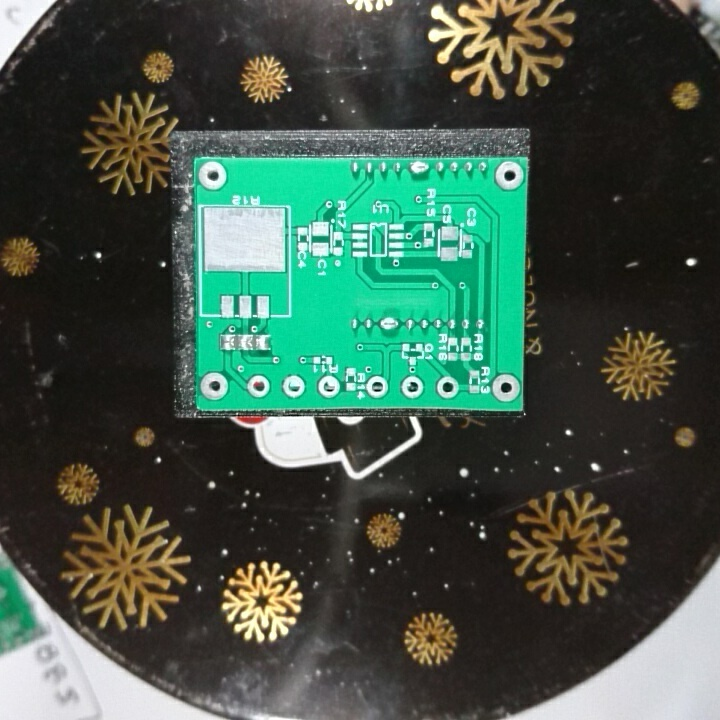F: (492, 160, 525, 193), (195, 159, 228, 191), (198, 371, 231, 402), (491, 374, 520, 403), (245, 373, 273, 401), (279, 372, 308, 399), (316, 373, 341, 401), (399, 375, 425, 400), (365, 373, 389, 400), (436, 376, 461, 401)
P: (408, 157, 431, 179), (377, 315, 401, 332)
